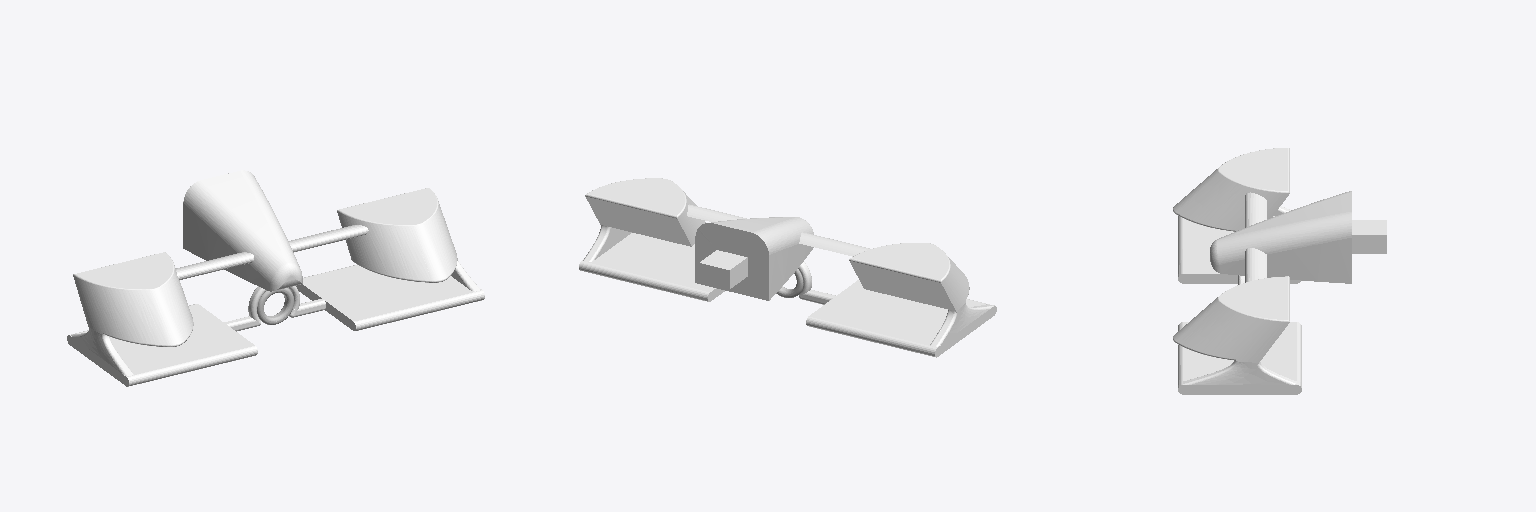
The model's file is Spoiler.obj.
3 views of the same model, side by side, from view 1: azimuth 30°, elevation 25°; view 2: azimuth 150°, elevation 25°; view 3: azimuth 270°, elevation 25° (orthographic).
Visible parts, largest first — view 1: Baugruppe_1.4.024, Baugruppe_1.4.022; view 2: Baugruppe_1.4.024; view 3: Baugruppe_1.4.024.
Boxes of the visible parts, x1,y1,x2,y2 form: Baugruppe_1.4.024: [67, 170, 484, 386]; Baugruppe_1.4.022: [257, 288, 293, 324]; Baugruppe_1.4.024: [579, 178, 996, 357]; Baugruppe_1.4.024: [1173, 148, 1386, 394].
Bounding box in the file's own units: 0.7742 × 0.2256 × 0.4033.